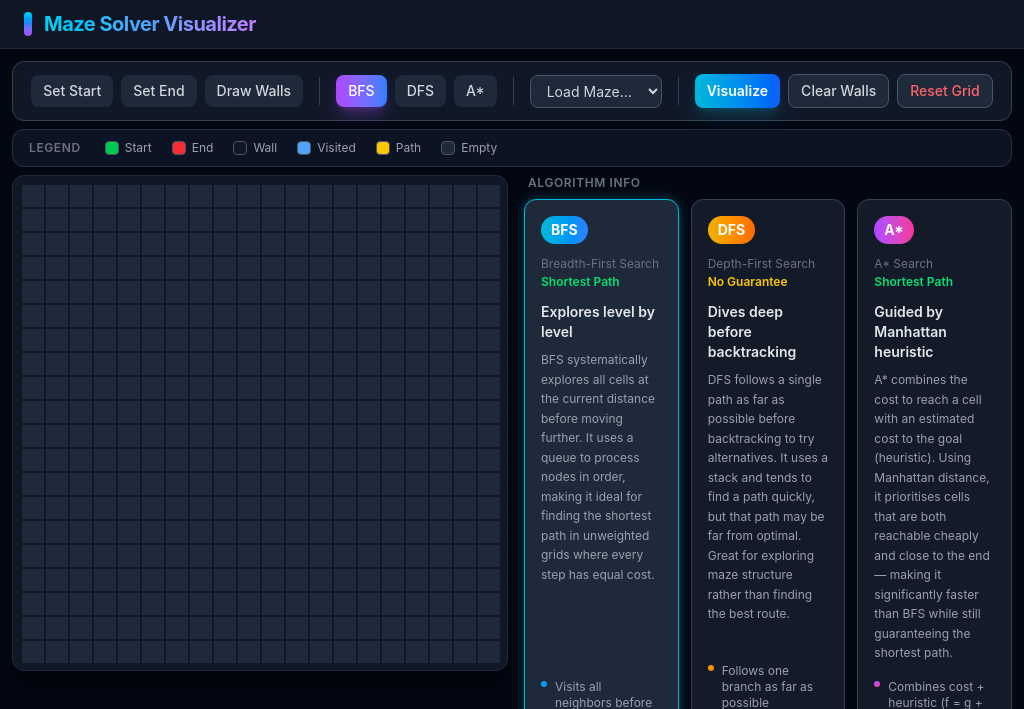
Test: Error message display and dismissal › shows error when Visualize is clicked without a start node
This screenshot has width=1024, height=709.
What coordinates should you click on to do the following:
click the button "Visualize"
I would click on:
 (737, 91)
Its box is [695,74,780,108].
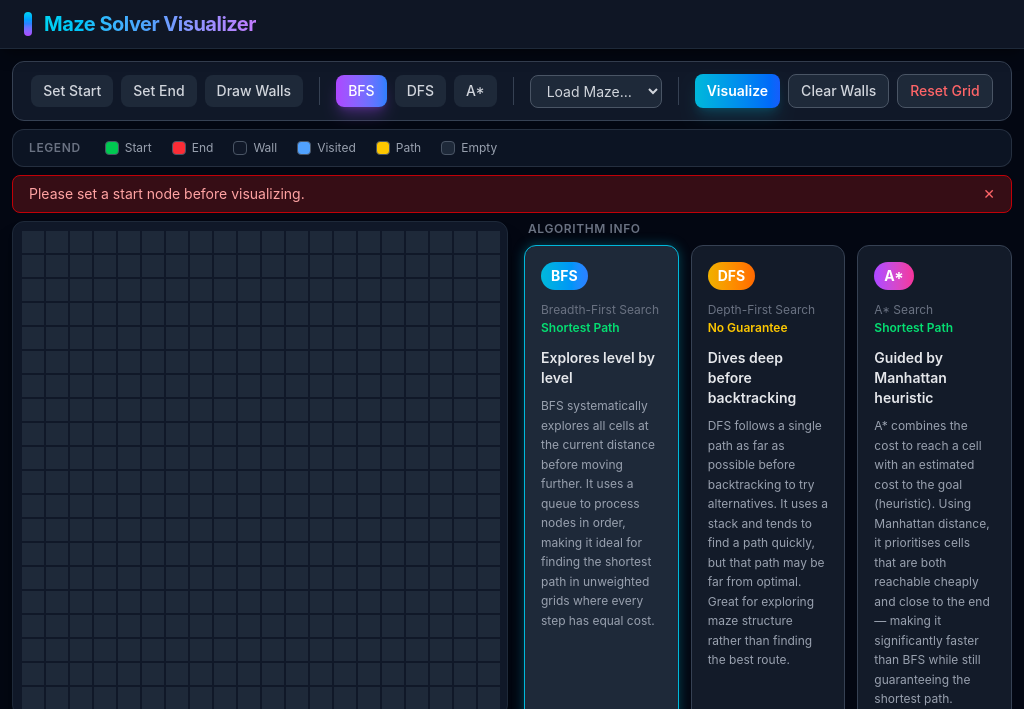
Expected: the text "Please set a start node before visualizing." is shown, [29,184,305,204]
